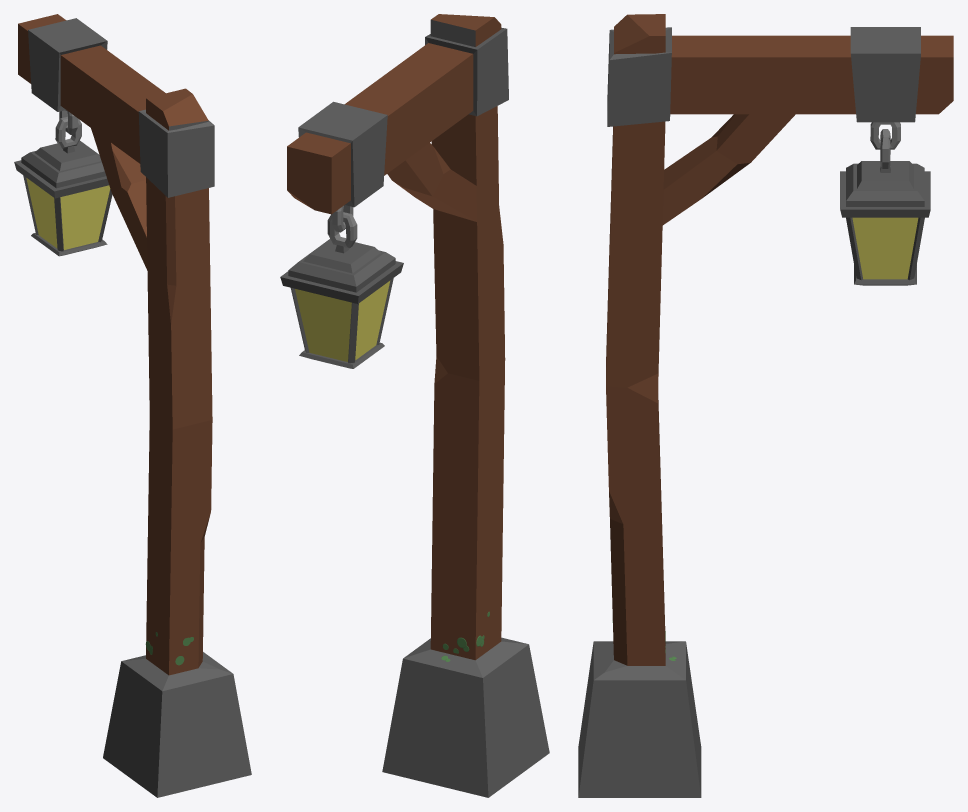
The model's file is lampadaire.fbx.
The picture shows the model from 3 angles, left to right: view 1: azimuth 30°, elevation 25°; view 2: azimuth 150°, elevation 25°; view 3: azimuth 270°, elevation 25°; orthographic projection. The views are drawn at different scales.
Parts seen in each view (by area): view 1: Cube; view 2: Cube; view 3: Cube.
Part boxes in pixels (x1=…): Cube: x1=14, y1=14, x2=251, y2=797; Cube: x1=280, y1=14, x2=549, y2=797; Cube: x1=578, y1=14, x2=953, y2=797.
Bounding box in the file's own units: 138 × 928 × 422.
